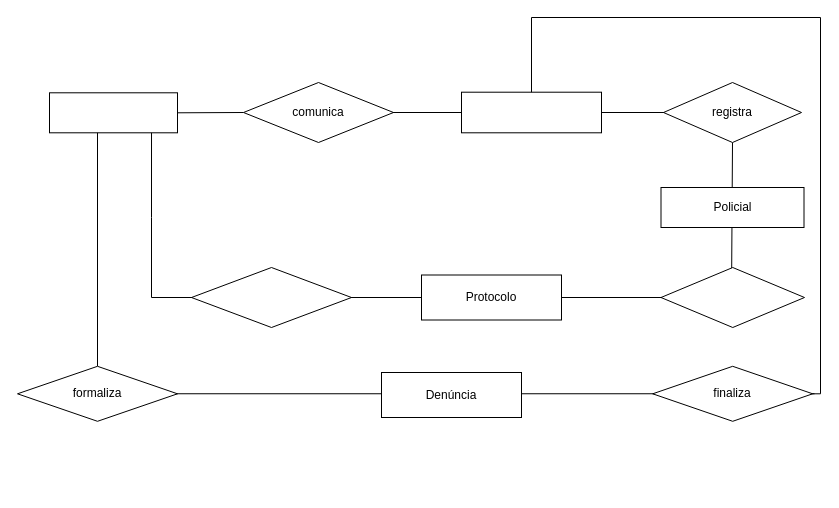
Some shapes in this 839 by 508 pixel diagram are drawn without their labels. The shapes that lost their labels are listed below. From the top down, each one's box as (x1, y1, x2, y2) in pixels, then its label:
(48, 92, 178, 133): Vitima
(460, 91, 602, 133): Ocorrência
(190, 266, 352, 328): encaminha
(660, 266, 804, 328): inicia
